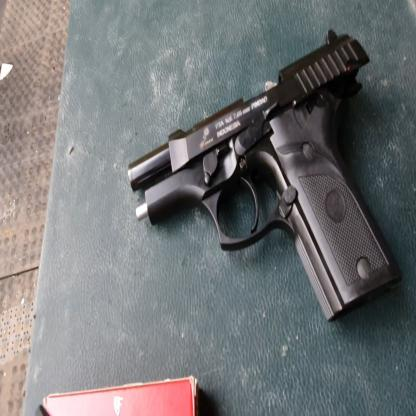handgun: (124, 20, 392, 333)
